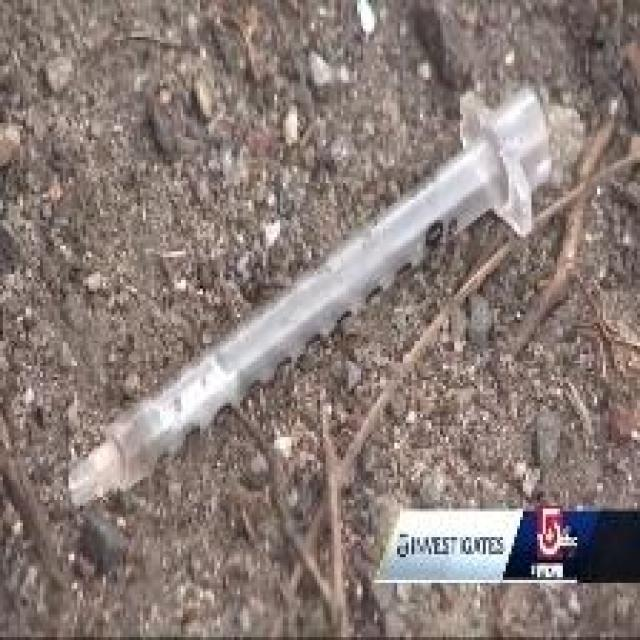syringe: (40, 95, 576, 494)
